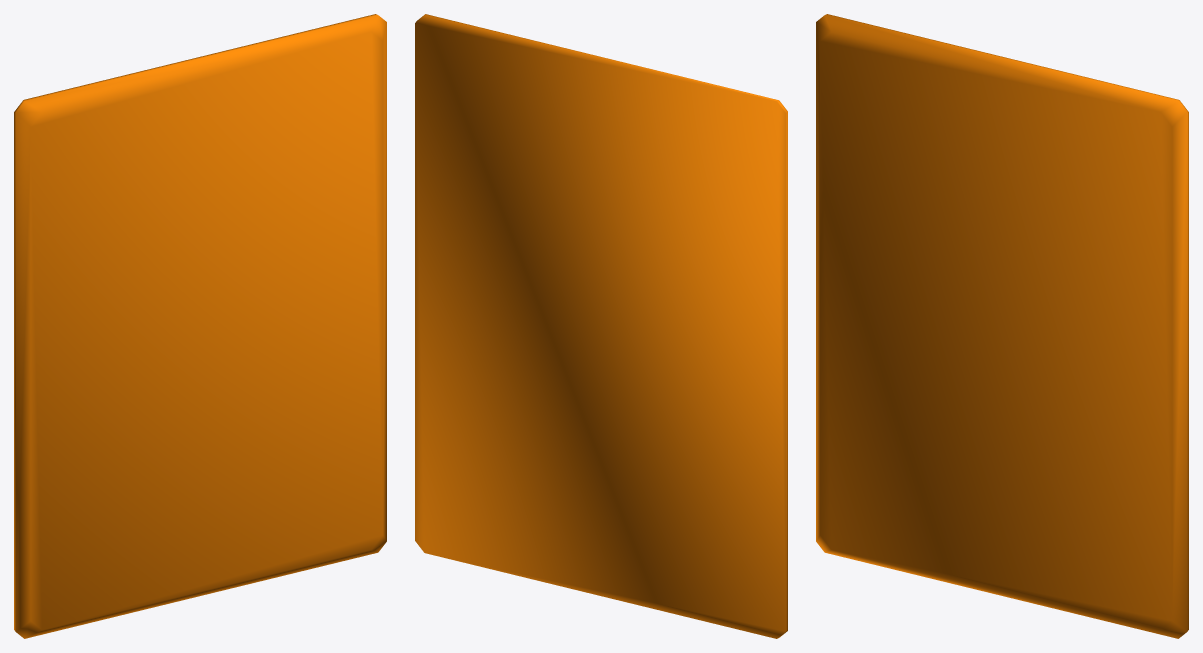
File: SM_PetiteStele_03.fbx
The picture shows the model from 3 angles, left to right: view 1: azimuth 30°, elevation 25°; view 2: azimuth 150°, elevation 25°; view 3: azimuth 330°, elevation 25°; orthographic projection.
Parts seen in each view (by area): view 1: Stele_01_l004; view 2: Stele_01_l004; view 3: Stele_01_l004.
Part boxes in pixels (<box>): Stele_01_l004: <box>14,14,386,638</box>; Stele_01_l004: <box>415,14,787,638</box>; Stele_01_l004: <box>816,14,1188,638</box>.
Bounding box in the file's own units: 20.35 × 28.18 × 0.688.
